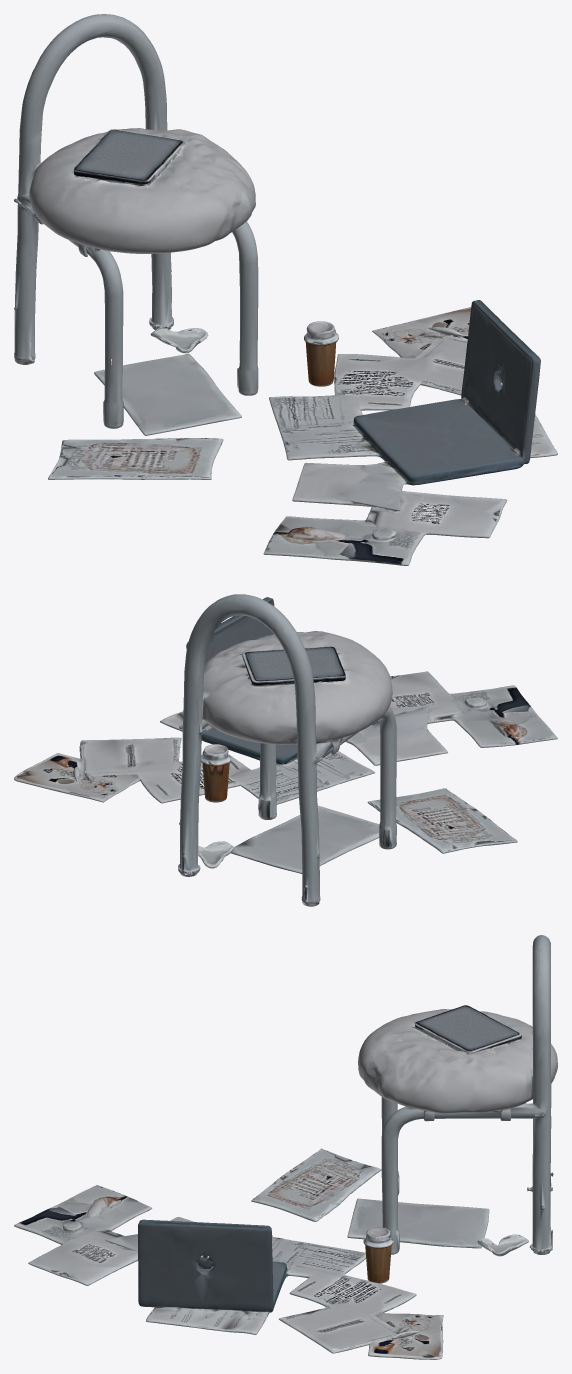
File: storystudio_chair_lo.glb
3 renders of one model, top to bottom at view 1: azimuth 30°, elevation 25°; view 2: azimuth 150°, elevation 25°; view 3: azimuth 270°, elevation 25°, orthographic. The views are drawn at different scales.
Visible parts, largest first — view 1: tripo_node_8cadee7e-1d1d-4fff-8dbf-63c5ed9ae1ee; view 2: tripo_node_8cadee7e-1d1d-4fff-8dbf-63c5ed9ae1ee; view 3: tripo_node_8cadee7e-1d1d-4fff-8dbf-63c5ed9ae1ee.
Part boxes in pixels (x1,y1,x2,y2): tripo_node_8cadee7e-1d1d-4fff-8dbf-63c5ed9ae1ee: (14,14,557,565); tripo_node_8cadee7e-1d1d-4fff-8dbf-63c5ed9ae1ee: (14,594,557,906); tripo_node_8cadee7e-1d1d-4fff-8dbf-63c5ed9ae1ee: (14,935,557,1359).
Size of the model in its own units: 1.34 by 0.85 by 1.47.
Materials: 1 (1 with a texture image).
